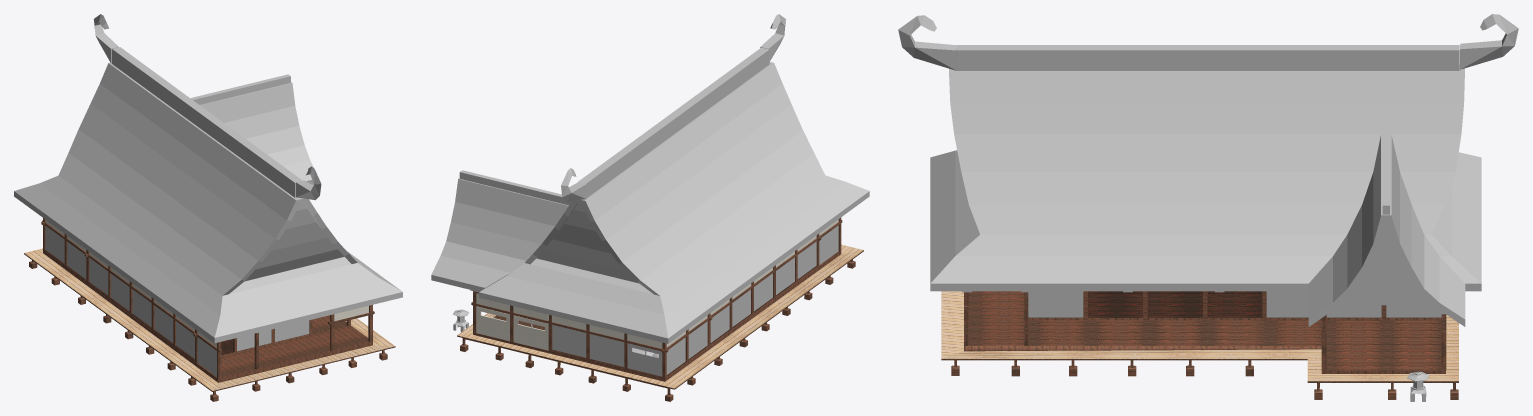
File: house.fbx
The picture shows the model from 3 angles, left to right: view 1: azimuth 30°, elevation 25°; view 2: azimuth 150°, elevation 25°; view 3: azimuth 270°, elevation 25°; orthographic projection. The views are drawn at different scales.
Parts seen in each view (by area): view 1: roof, floor, horn1, wood wall007, horn2, wood wall004, wood wall017, wood wall, wood wall002, wood wall005, wood wall001, wood wall003 (+2 smaller); view 2: roof, floor, WhieWall001, wood wall008, wood wall009, WhieWall, wood wall - window, horn2, wood wall007, horn1, wood wall001, wood wall006 (+5 smaller); view 3: roof, floor, horn2, horn1, wood wall015, wood wall014, wood wall012, wood wall013.
Part boxes in pixels (left/top/right/bottom): roof: left=14, top=47, right=402, bottom=343; floor: left=24, top=218, right=395, bottom=401; horn1: left=296, top=166, right=321, bottom=200; wood wall007: left=197, top=337, right=216, bottom=376; horn2: left=93, top=14, right=118, bottom=63; wood wall004: left=132, top=289, right=151, bottom=326; wood wall017: left=275, top=320, right=309, bottom=341; wood wall: left=45, top=226, right=64, bottom=263; wood wall002: left=89, top=258, right=108, bottom=295; wood wall005: left=154, top=306, right=173, bottom=342; wood wall001: left=67, top=242, right=86, bottom=279; wood wall003: left=111, top=274, right=129, bottom=310; roof: left=431, top=47, right=869, bottom=343; floor: left=457, top=217, right=863, bottom=401; WhieWall001: left=513, top=315, right=548, bottom=350; wood wall008: left=590, top=334, right=624, bottom=366; wood wall009: left=552, top=325, right=586, bottom=357; WhieWall: left=476, top=306, right=509, bottom=341; wood wall - window: left=627, top=343, right=662, bottom=376; horn2: left=561, top=168, right=586, bottom=201; wood wall007: left=819, top=225, right=838, bottom=264; horn1: left=760, top=14, right=785, bottom=61; wood wall001: left=688, top=321, right=707, bottom=358; wood wall006: left=797, top=241, right=816, bottom=278; roof: left=930, top=45, right=1481, bottom=326; floor: left=941, top=291, right=1458, bottom=399; horn2: left=1460, top=14, right=1518, bottom=69; horn1: left=898, top=15, right=956, bottom=70; wood wall015: left=1028, top=291, right=1083, bottom=317; wood wall014: left=1266, top=291, right=1308, bottom=317; wood wall012: left=1386, top=305, right=1441, bottom=317; wood wall013: left=1326, top=305, right=1381, bottom=317.
Size of the model in its own units: 274 by 239 by 443.
